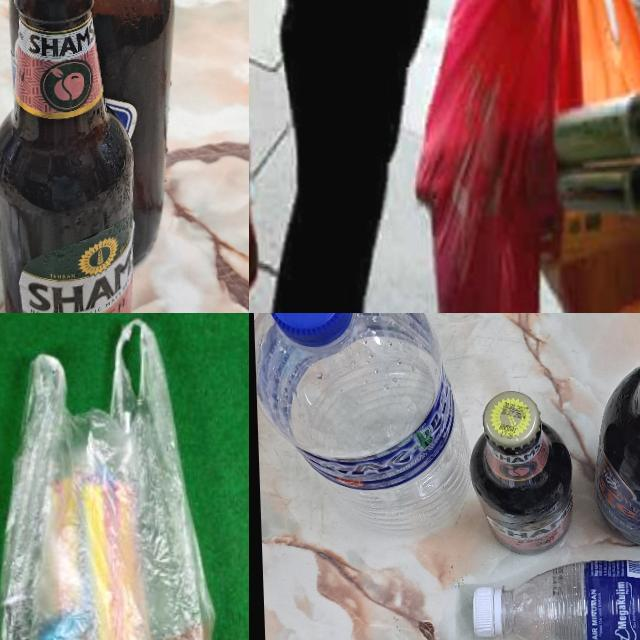garrafa de vidro: (0, 0, 135, 313), (31, 0, 180, 272), (466, 389, 574, 560), (587, 313, 640, 550)
garrafa plástica: (251, 313, 471, 539), (496, 554, 640, 640)
sacola plástica: (0, 313, 226, 640), (403, 0, 586, 313), (550, 0, 640, 313)
tampa plástica: (265, 313, 353, 347), (470, 586, 496, 638)
